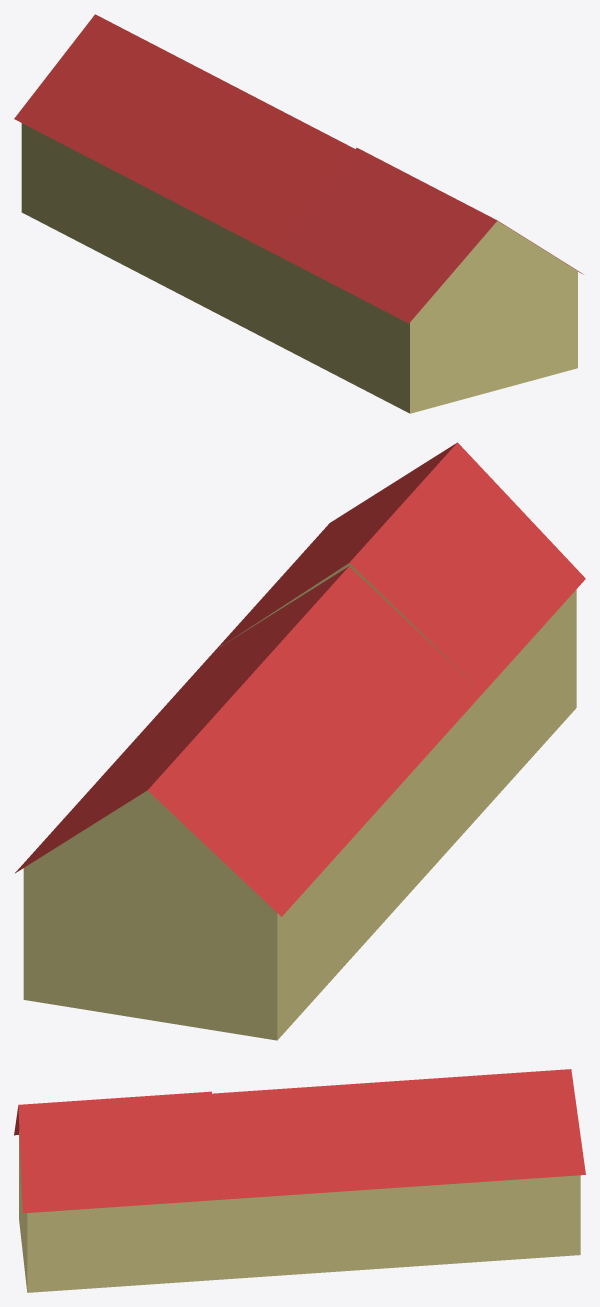
3 renders of one model, top to bottom at view 1: azimuth 30°, elevation 25°; view 2: azimuth 150°, elevation 25°; view 3: azimuth 270°, elevation 25°, orthographic. The views are drawn at different scales.
Size of the model in its own units: 28.6 by 60.03 by 17.54.
